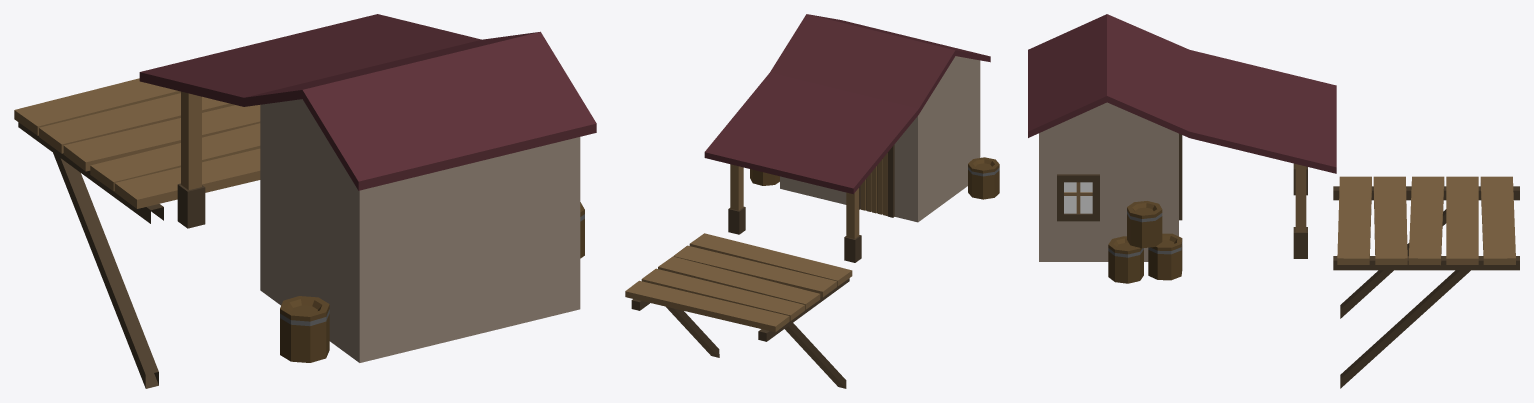
Rendered from Building_Resources_Fishinghut.fbx.
The picture shows the model from 3 angles, left to right: view 1: azimuth 30°, elevation 25°; view 2: azimuth 150°, elevation 25°; view 3: azimuth 270°, elevation 25°; orthographic projection. The views are drawn at different scales.
Parts seen in each view (by area): view 1: Building_Resources_Fishinghut; view 2: Building_Resources_Fishinghut; view 3: Building_Resources_Fishinghut.
Part boxes in pixels (x1=…): Building_Resources_Fishinghut: x1=14, y1=14, x2=596, y2=388; Building_Resources_Fishinghut: x1=625, y1=14, x2=999, y2=388; Building_Resources_Fishinghut: x1=1028, y1=14, x2=1519, y2=388.
Size of the model in its own units: 7.6 by 9.15 by 13.7.
